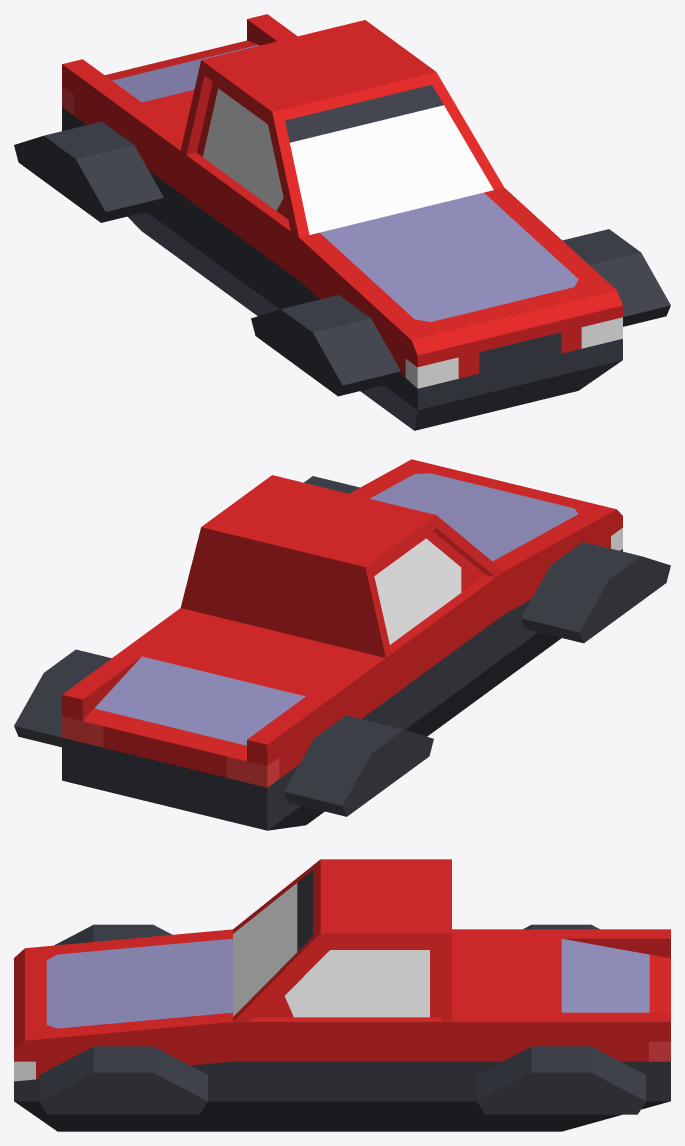
The model's file is car.fbx.
3 renders of one model, top to bottom at view 1: azimuth 30°, elevation 25°; view 2: azimuth 150°, elevation 25°; view 3: azimuth 270°, elevation 25°, orthographic. The views are drawn at different scales.
Visible parts, largest first — view 1: body_frontStandard, body_topStandard, wheel_coverSquare (×3), body_backFins, body_standard; view 2: body_backFins, body_topStandard, wheel_coverSquare (×3), body_frontStandard, body_standard; view 3: body_backFins, body_frontStandard, body_topStandard, body_standard, wheel_coverSquare (×4).
Boxes of the visible parts, bbox=[...] form: body_frontStandard: bbox=[299, 187, 622, 430]; body_topStandard: bbox=[180, 20, 503, 237]; wheel_coverSquare (×3): bbox=[14, 121, 670, 396]; body_backFins: bbox=[62, 14, 297, 274]; body_standard: bbox=[180, 151, 298, 315]; body_backFins: bbox=[62, 608, 385, 830]; body_topStandard: bbox=[180, 475, 503, 657]; wheel_coverSquare (×3): bbox=[14, 542, 670, 816]; body_frontStandard: bbox=[349, 459, 622, 694]; body_standard: bbox=[386, 571, 504, 736]; body_backFins: bbox=[452, 929, 670, 1131]; body_frontStandard: bbox=[14, 929, 232, 1131]; body_topStandard: bbox=[233, 859, 451, 1021]; body_standard: bbox=[233, 1017, 451, 1131]; wheel_coverSquare (×4): bbox=[39, 924, 645, 1114].
Bounding box in the file's own units: 16 × 10 × 30.
